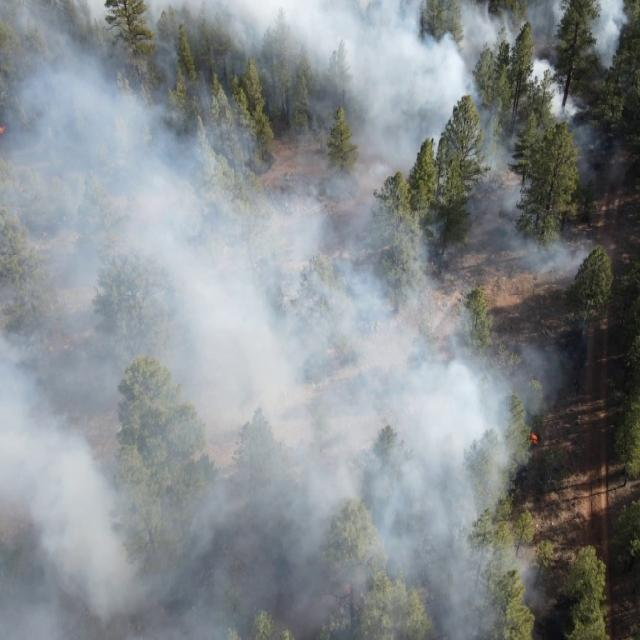fire: (322, 342, 337, 359), (529, 430, 541, 450), (342, 580, 356, 596), (0, 125, 8, 135)
smoke: (0, 0, 565, 640), (565, 0, 629, 282)
